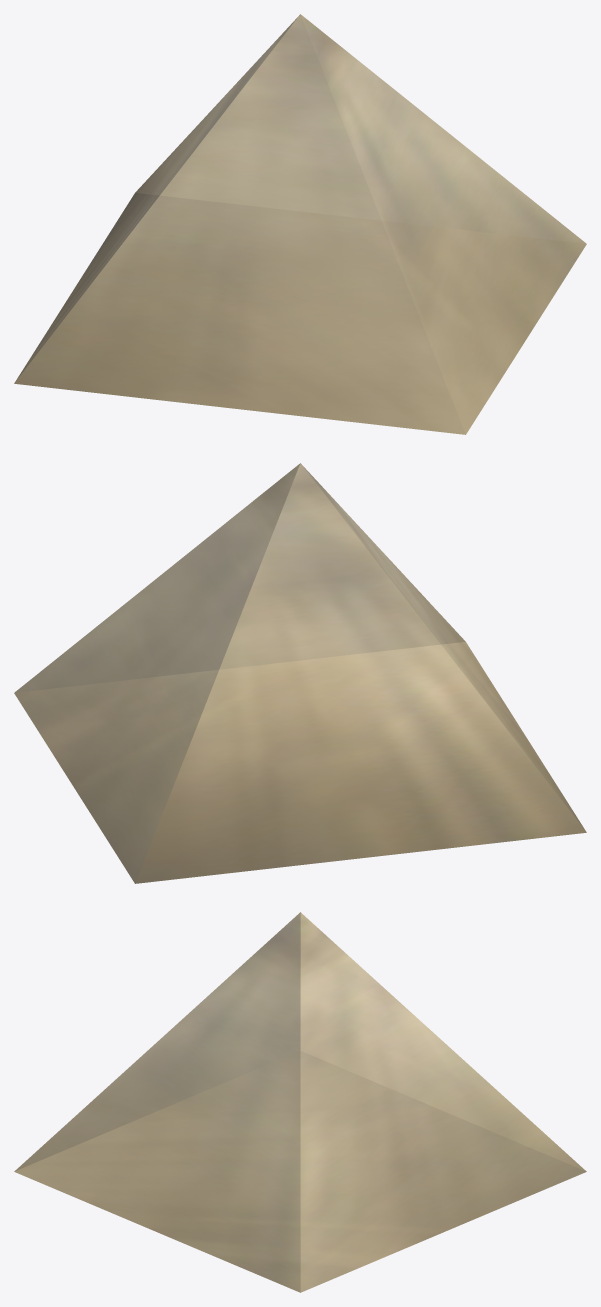
3 renders of one model, top to bottom at view 1: azimuth 30°, elevation 25°; view 2: azimuth 150°, elevation 25°; view 3: azimuth 270°, elevation 25°, orthographic. The views are drawn at different scales.
Visible parts, largest first — view 1: pPyramid1; view 2: pPyramid1; view 3: pPyramid1.
Boxes of the visible parts, x1,y1,x2,y2 form: pPyramid1: (14,14,586,434); pPyramid1: (14,463,586,883); pPyramid1: (14,912,586,1292).
Size of the model in its own units: 129 by 64.49 by 129.
Materials: 1 (1 with a texture image).
